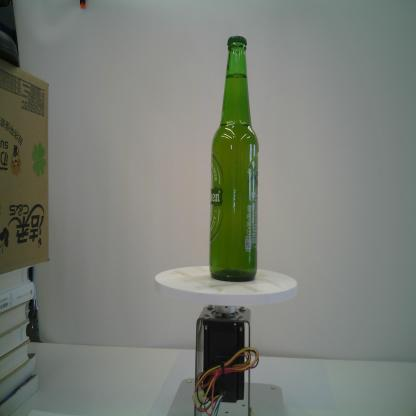Alcohol: (206, 33, 260, 284)
